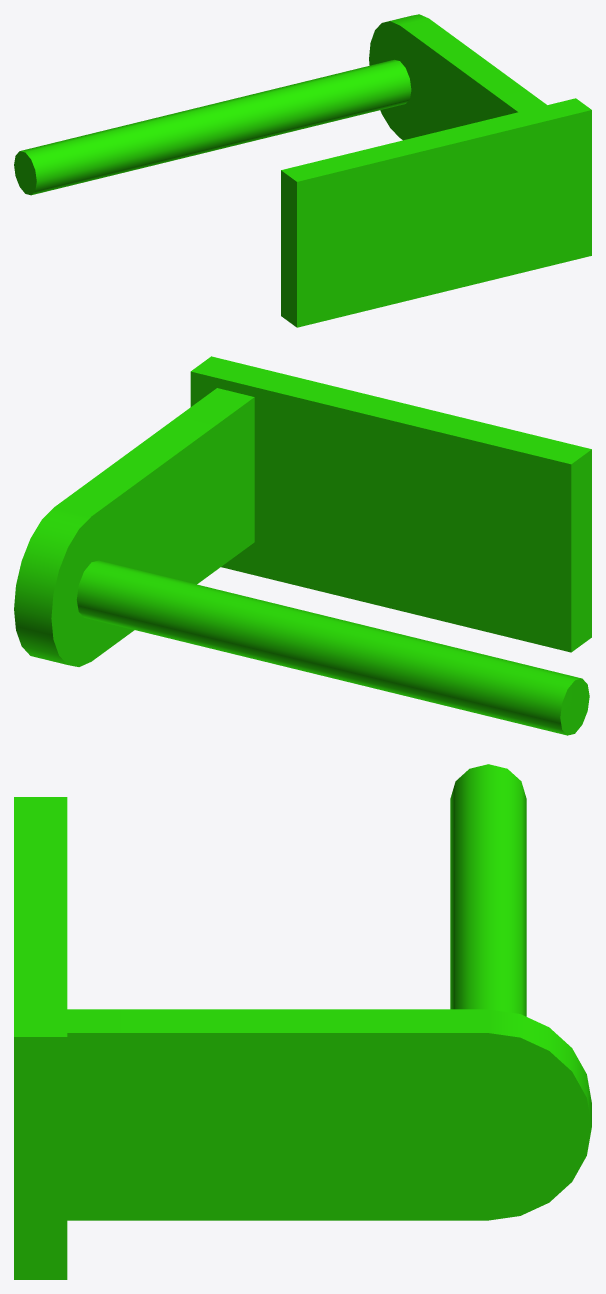
Rendered from Toilet_Paper_Base_Lod0.fbx.
3 views of the same model, one above another, from view 1: azimuth 30°, elevation 25°; view 2: azimuth 150°, elevation 25°; view 3: azimuth 270°, elevation 25° (orthographic). The views are drawn at different scales.
Parts seen in each view (by area): view 1: Toilet_Paper_Base_Lod0; view 2: Toilet_Paper_Base_Lod0; view 3: Toilet_Paper_Base_Lod0.
Boxes of the visible parts, left/top/right/bottom form: Toilet_Paper_Base_Lod0: left=14, top=14, right=591, bottom=327; Toilet_Paper_Base_Lod0: left=14, top=356, right=591, bottom=735; Toilet_Paper_Base_Lod0: left=14, top=764, right=591, bottom=1279.
Bounding box in the file's own units: 20.29 × 6.66 × 14.37.
